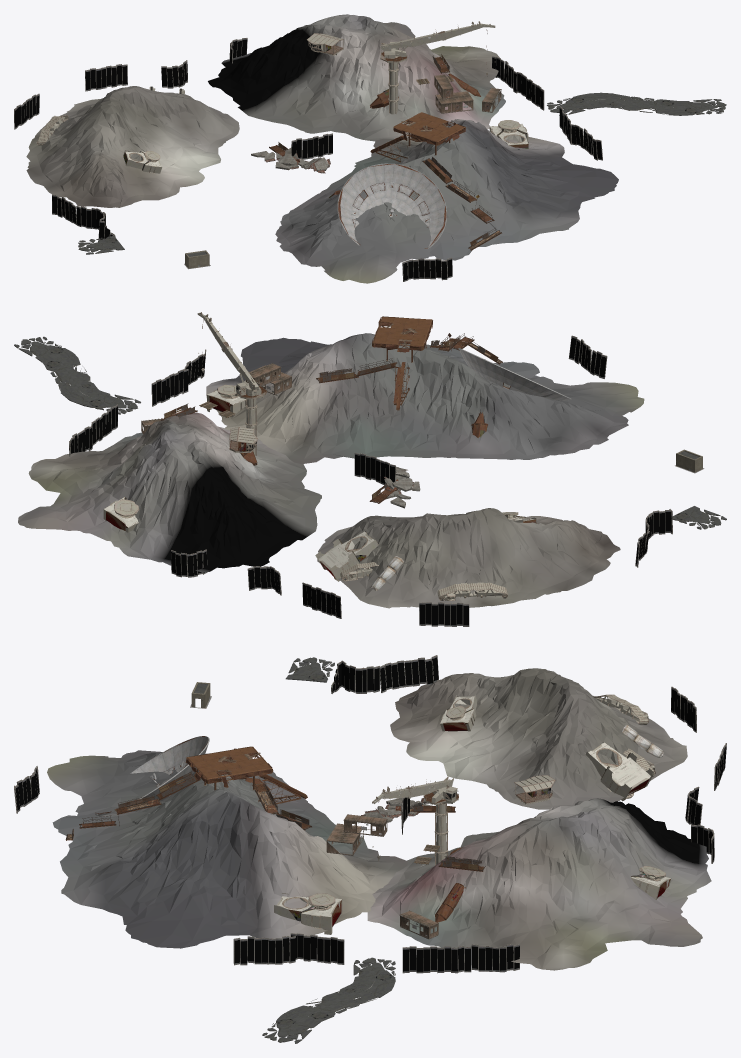
Rendered from junkyard_1-map.glb.
The picture shows the model from 3 angles, top to bottom: view 1: azimuth 30°, elevation 25°; view 2: azimuth 150°, elevation 25°; view 3: azimuth 270°, elevation 25°; orthographic projection. The views are drawn at different scales.
Visible parts, largest first — view 1: junkyard_mound_a, dish_radio_LOD0, perimeter_wall_corner_LOD0, bucket_excavator_control_LOD0, road_nopavement_9x15_end_LOD0, gas_station_extension_LOD0, excavator_cabin_a_LOD0, spheretank_walkway_a_LOD0, range_outbuilding_b_LOD0, cooling_tower_collapsed_bits_a_LOD0, conveyor_belt_end_wall_LOD0; view 2: junkyard_mound_a, perimeter_wall_corner_LOD0, bucket_excavator_control_LOD0, dish_radio_LOD0, road_nopavement_9x15_end_LOD0, gas_station_extension_LOD0, spheretank_walkway_a_LOD0, range_outbuilding_b_LOD0, excavator_cabin_a_LOD0, cooling_tower_collapsed_bits_a_LOD0, conveyor_belt_end_wall_LOD0; view 3: junkyard_mound_a, perimeter_wall_corner_LOD0, bucket_excavator_control_LOD0, dish_radio_LOD0, road_nopavement_9x15_end_LOD0, spheretank_walkway_a_LOD0, gas_station_extension_LOD0, excavator_cabin_a_LOD0, range_outbuilding_b_LOD0, conveyor_belt_end_wall_LOD0, cooling_tower_collapsed_bits_a_LOD0.
Part boxes in pixels (box(x1,y1,x2,y2)): junkyard_mound_a: box(26, 14, 618, 283); dish_radio_LOD0: box(14, 38, 602, 281); perimeter_wall_corner_LOD0: box(14, 38, 602, 281); bucket_excavator_control_LOD0: box(36, 21, 528, 197); road_nopavement_9x15_end_LOD0: box(78, 92, 726, 256); gas_station_extension_LOD0: box(393, 112, 465, 145); excavator_cabin_a_LOD0: box(434, 74, 501, 113); spheretank_walkway_a_LOD0: box(269, 54, 501, 250); range_outbuilding_b_LOD0: box(185, 36, 500, 268); cooling_tower_collapsed_bits_a_LOD0: box(251, 147, 330, 173); conveyor_belt_end_wall_LOD0: box(331, 73, 480, 196); junkyard_mound_a: box(18, 333, 644, 608); perimeter_wall_corner_LOD0: box(69, 336, 672, 626); bucket_excavator_control_LOD0: box(103, 312, 536, 600); dish_radio_LOD0: box(69, 335, 704, 626); road_nopavement_9x15_end_LOD0: box(14, 336, 726, 529); gas_station_extension_LOD0: box(372, 316, 432, 352); spheretank_walkway_a_LOD0: box(161, 333, 502, 503); range_outbuilding_b_LOD0: box(264, 320, 702, 600); excavator_cabin_a_LOD0: box(141, 363, 291, 434); cooling_tower_collapsed_bits_a_LOD0: box(384, 466, 420, 508); conveyor_belt_end_wall_LOD0: box(240, 362, 487, 465); junkyard_mound_a: box(47, 668, 711, 970); perimeter_wall_corner_LOD0: box(14, 656, 726, 972); bucket_excavator_control_LOD0: box(274, 694, 670, 934); dish_radio_LOD0: box(14, 655, 726, 973); road_nopavement_9x15_end_LOD0: box(194, 657, 395, 1043); spheretank_walkway_a_LOD0: box(65, 771, 485, 871); gas_station_extension_LOD0: box(185, 746, 273, 787); excavator_cabin_a_LOD0: box(326, 814, 438, 939); range_outbuilding_b_LOD0: box(187, 682, 427, 935); conveyor_belt_end_wall_LOD0: box(245, 774, 465, 922); cooling_tower_collapsed_bits_a_LOD0: box(361, 798, 431, 822).
Size of the model in its own units: 197 by 33.54 by 154.
Materials: 38 (38 with a texture image).
